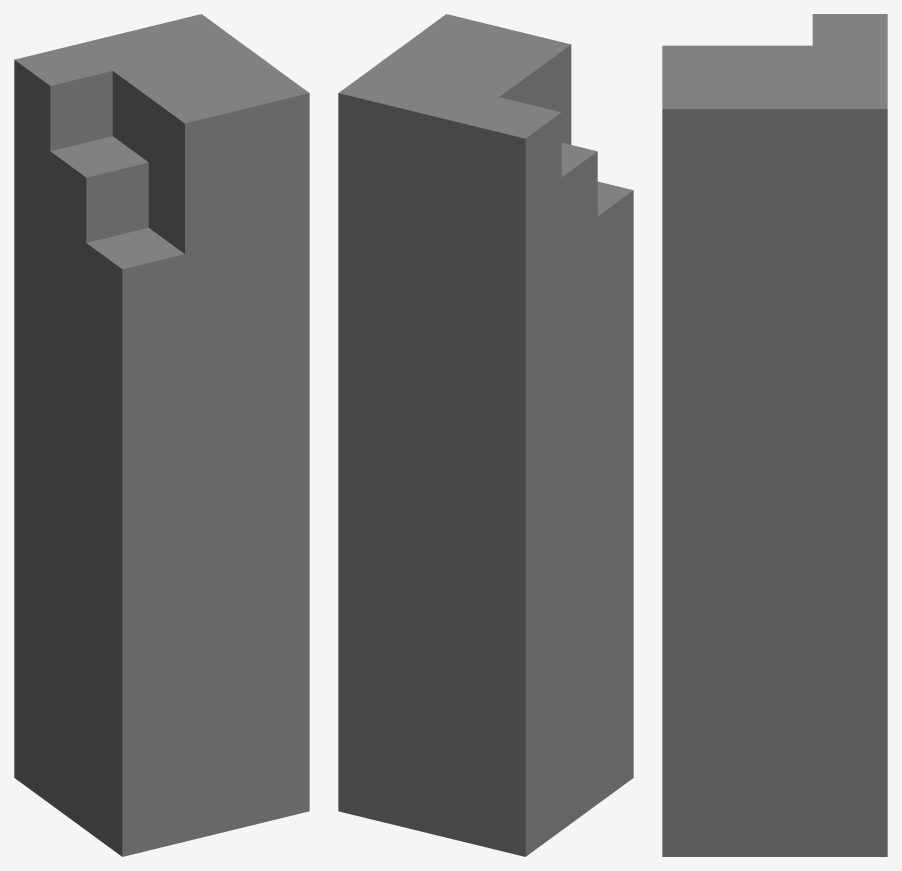
Rendered from wolf__leg_bl.glb.
3 renders of one model, left to right at view 1: azimuth 30°, elevation 25°; view 2: azimuth 150°, elevation 25°; view 3: azimuth 270°, elevation 25°, orthographic. The views are drawn at different scales.
Visible parts, largest first — view 1: wolf__leg_bl; view 2: wolf__leg_bl; view 3: wolf__leg_bl.
Part boxes in pixels (bbox=[...]): wolf__leg_bl: bbox=[14, 14, 309, 856]; wolf__leg_bl: bbox=[338, 14, 633, 856]; wolf__leg_bl: bbox=[662, 14, 887, 856].
Bounding box in the file's own units: 0.3 × 1.1 × 0.3.
Materials: 1 (1 with a texture image).
